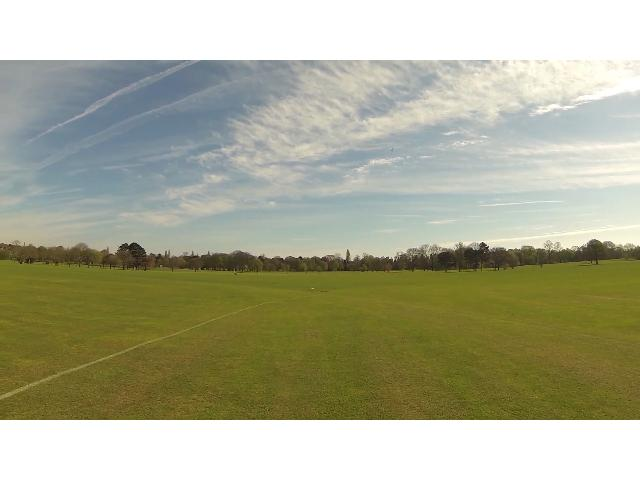Anti-Drone: (386, 143, 396, 153)
